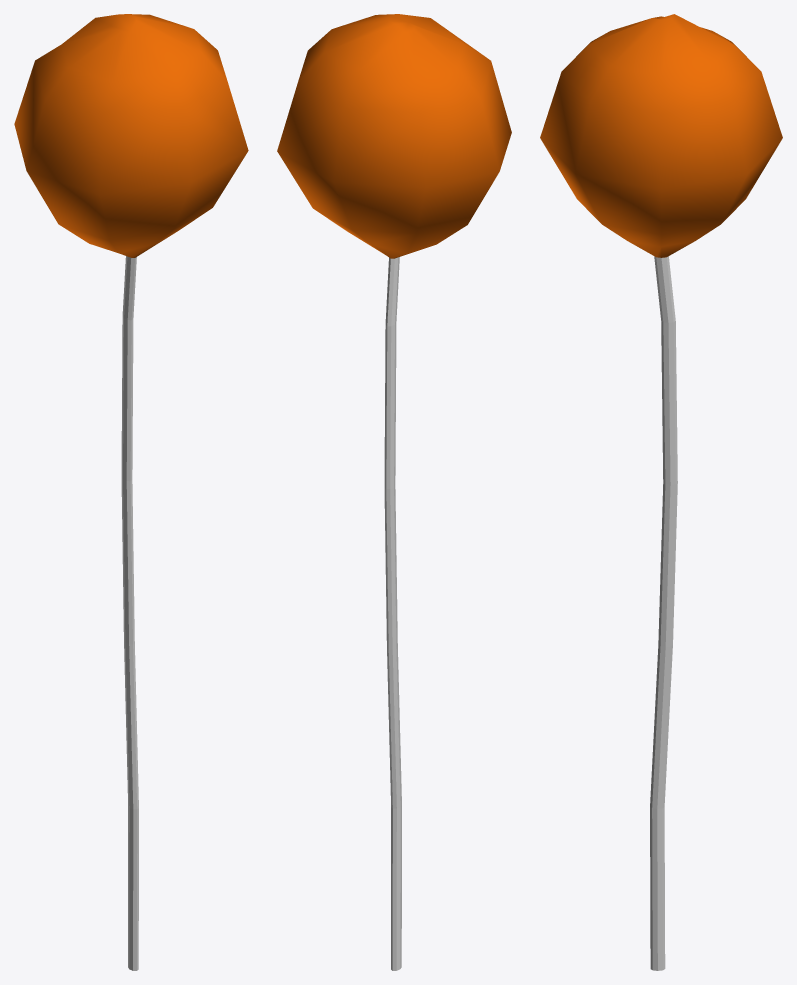
File: Balloon.fbx
The picture shows the model from 3 angles, left to right: view 1: azimuth 30°, elevation 25°; view 2: azimuth 150°, elevation 25°; view 3: azimuth 270°, elevation 25°; orthographic projection.
Parts seen in each view (by area): view 1: Cylinder.020; view 2: Cylinder.020; view 3: Cylinder.020.
Boxes of the visible parts, x1,y1,x2,y2 form: Cylinder.020: (14, 14, 248, 970); Cylinder.020: (277, 14, 511, 970); Cylinder.020: (540, 14, 782, 970).
Size of the model in its own units: 83.8 by 362 by 83.8.
